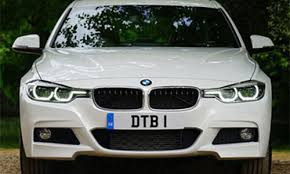malignant: (109, 113, 186, 129)
